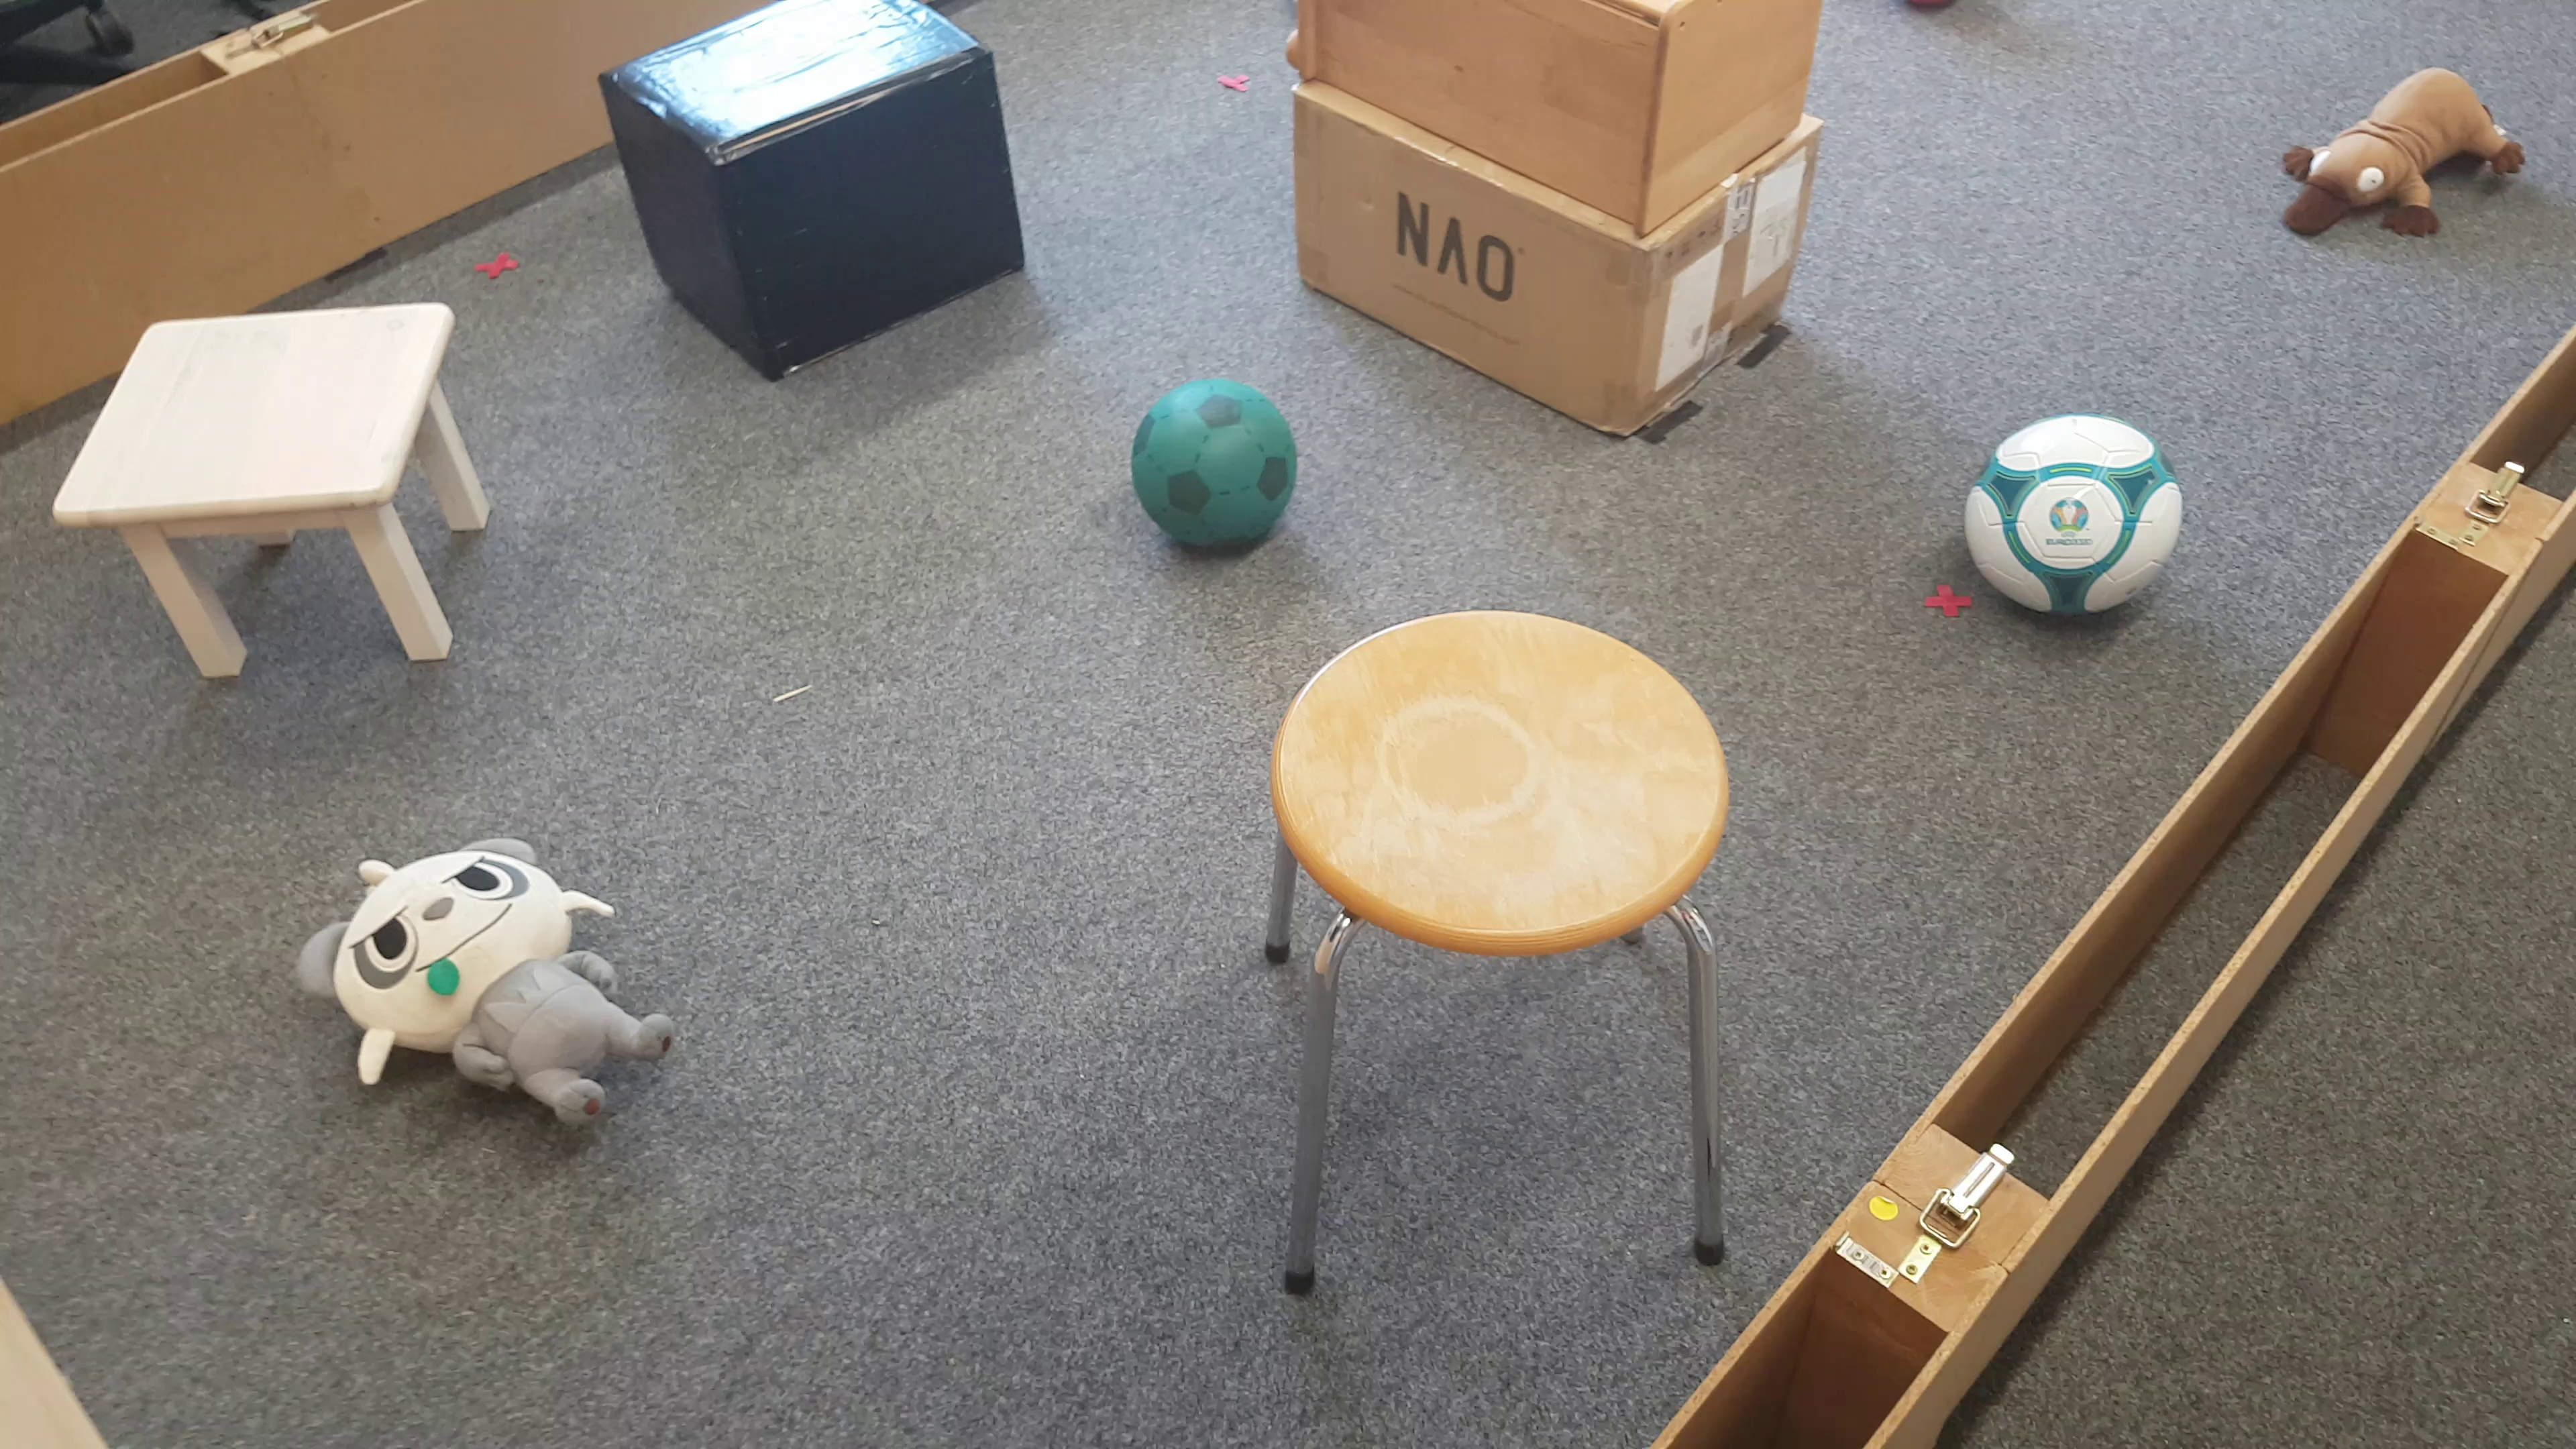grasp: (294, 830, 683, 1136), (2281, 62, 2526, 249)
kick: (1967, 416, 2181, 628), (1132, 377, 1297, 561)
push: (602, 0, 1030, 389)
